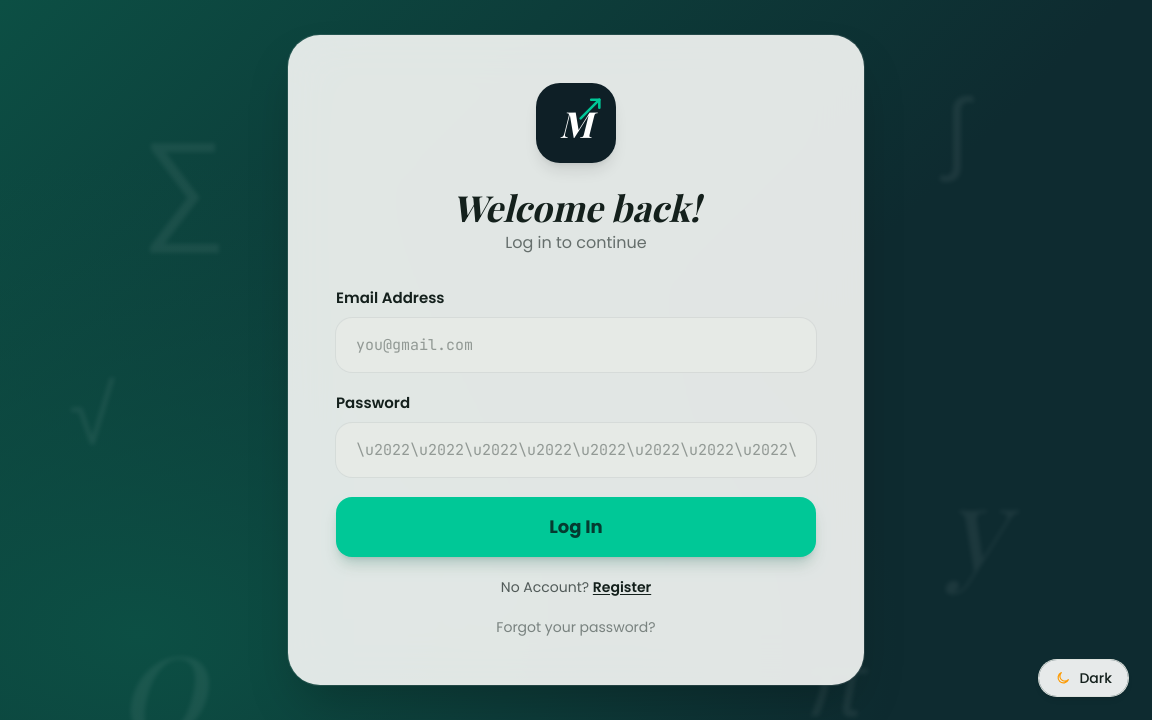
Test: Login Page › shows error when password is empty
In the field with placeholder "you@gmail.com": (576, 345) [336,318,816,372], type "test@email.com"
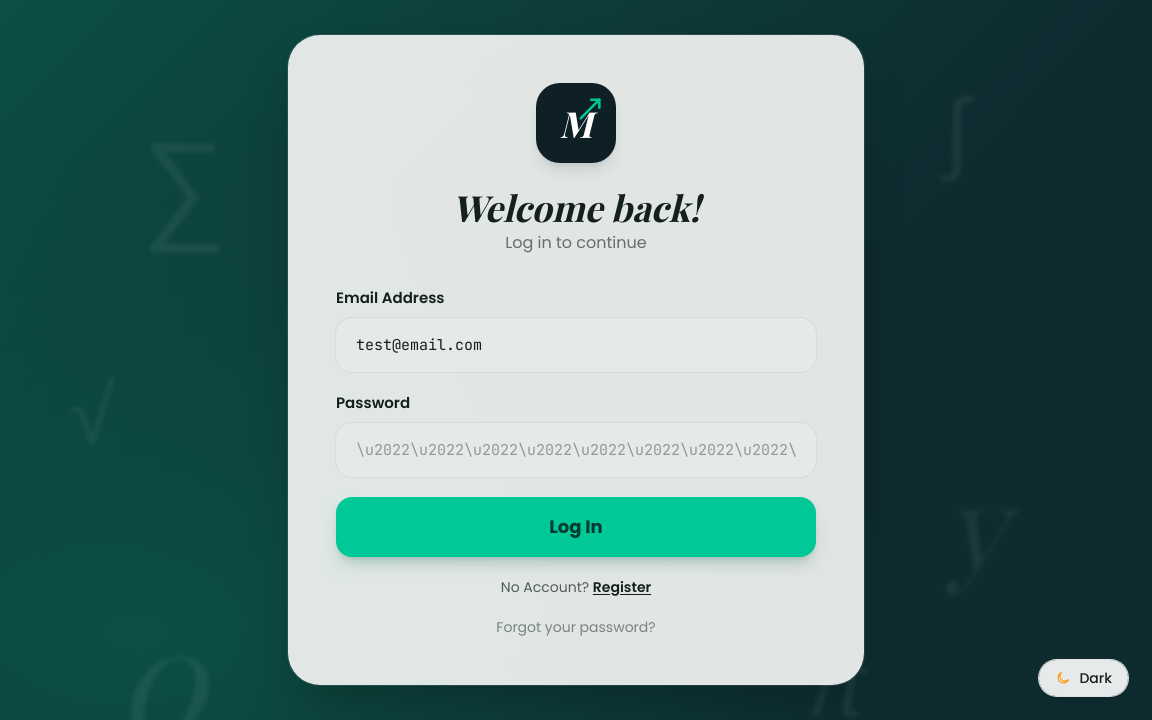
Click the button "Log In": (576, 527) [336,497,816,557]
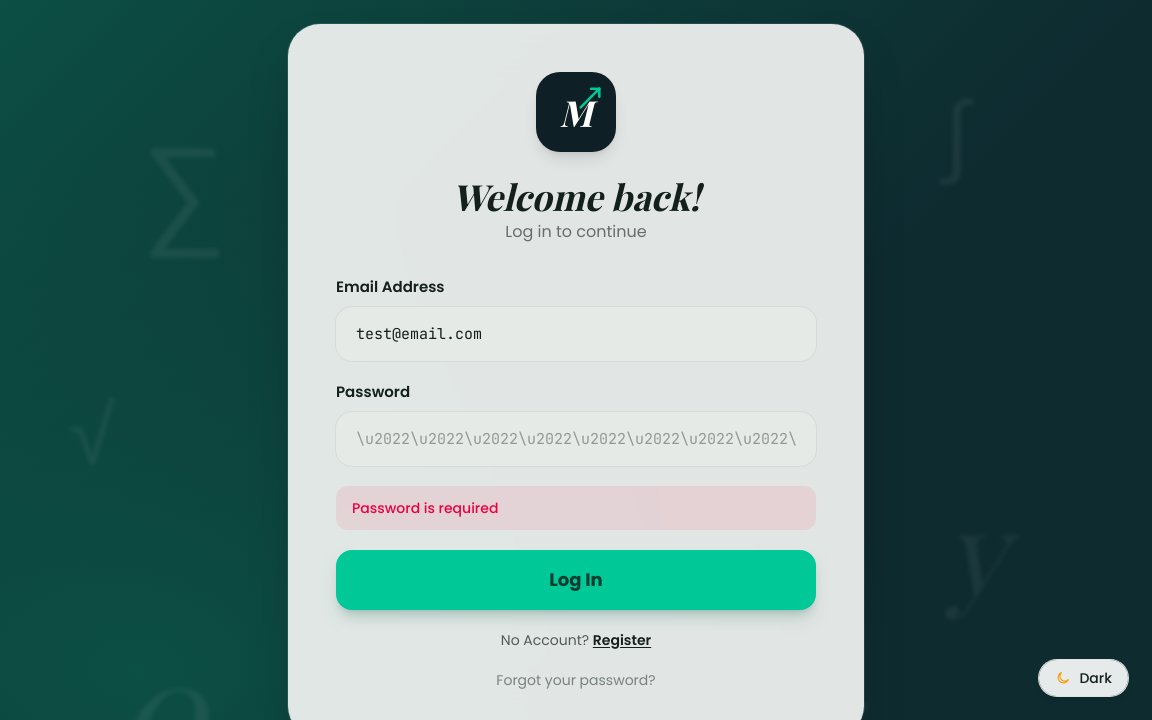
Expected: the text "Password is required" is shown, [336,486,816,530]
